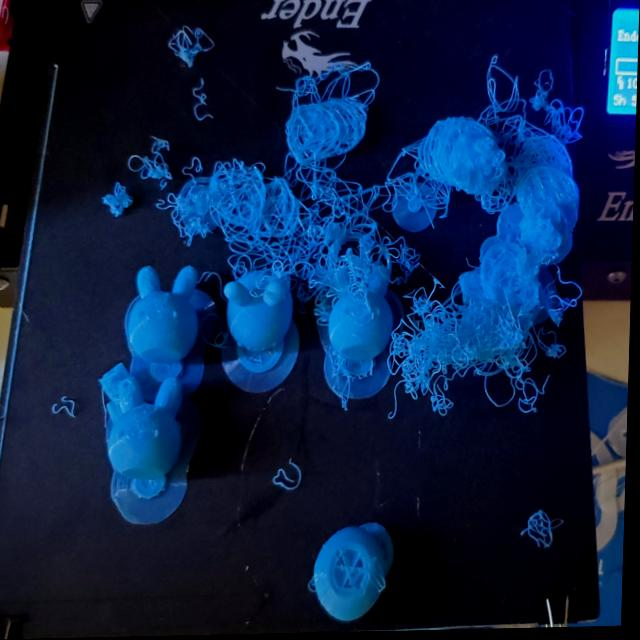spaghetti: (419, 68, 583, 438), (155, 97, 429, 278), (151, 17, 213, 76), (530, 497, 569, 576), (266, 455, 312, 505), (101, 175, 136, 223), (54, 377, 75, 426)
